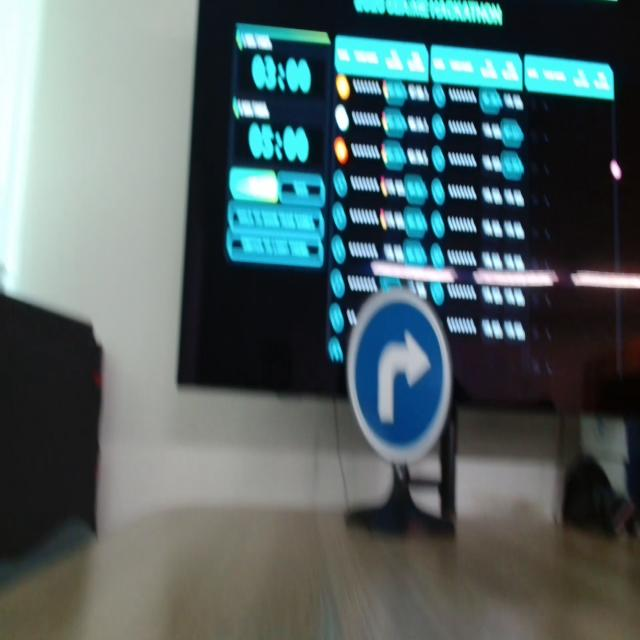right_dierection: (340, 279, 470, 505)
